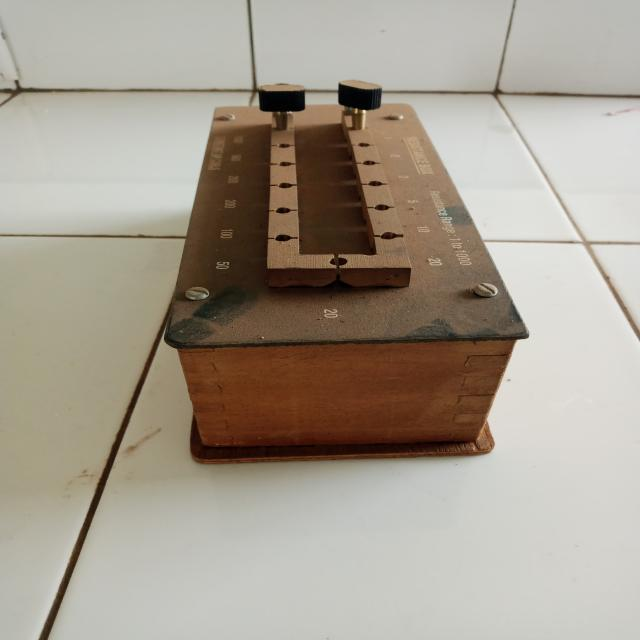Pinned Resistance Box: (145, 67, 542, 479)
